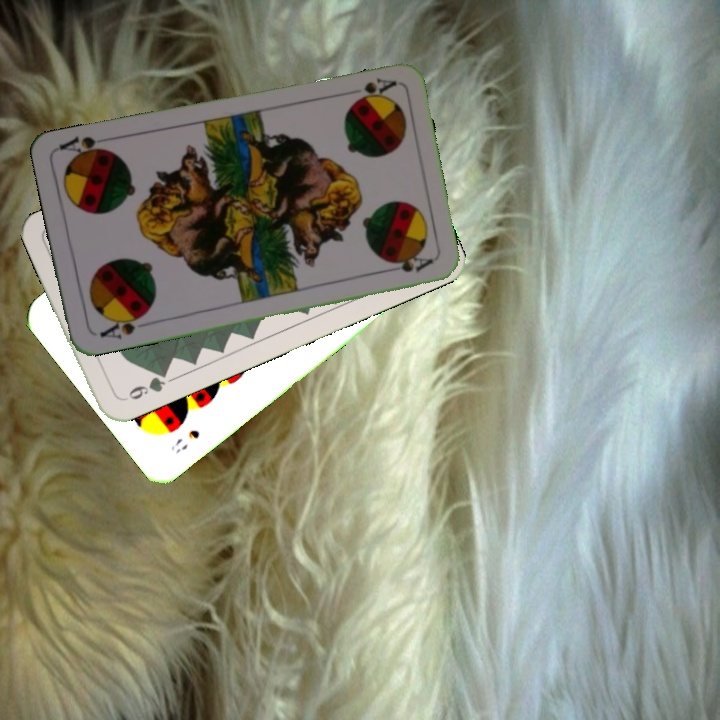G9: (118, 366, 171, 404)
S8: (166, 425, 203, 455)
SA: (95, 309, 151, 342), (347, 74, 399, 106)
